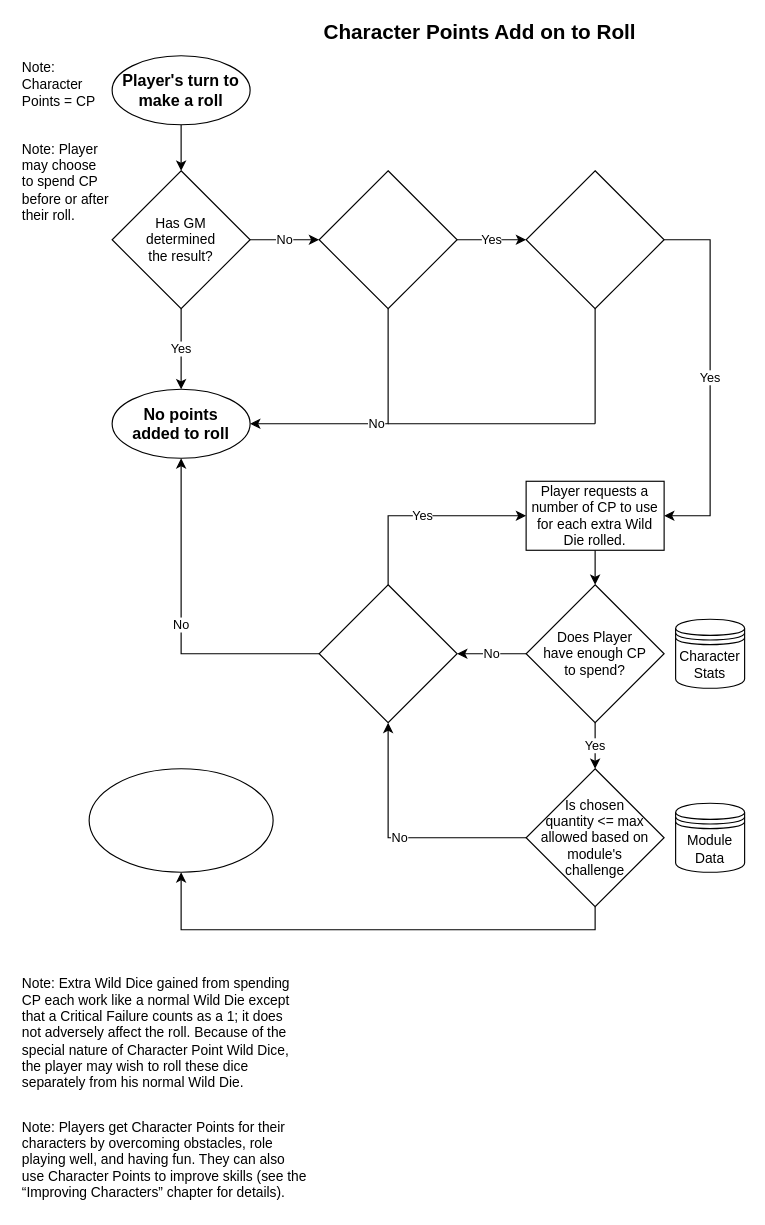
Image size: 765x1225. Some labels were removed from this diagram. Each missing label, with the centre of its shape:
Chosen # of CP added to roll; character loses that many points: pixel 180 820
Does Player have any CP?: pixel 387 239
Does Player want to choose a different number of CPs to use?: pixel 387 653
Spend CP to increase total to roll?: pixel 594 239
